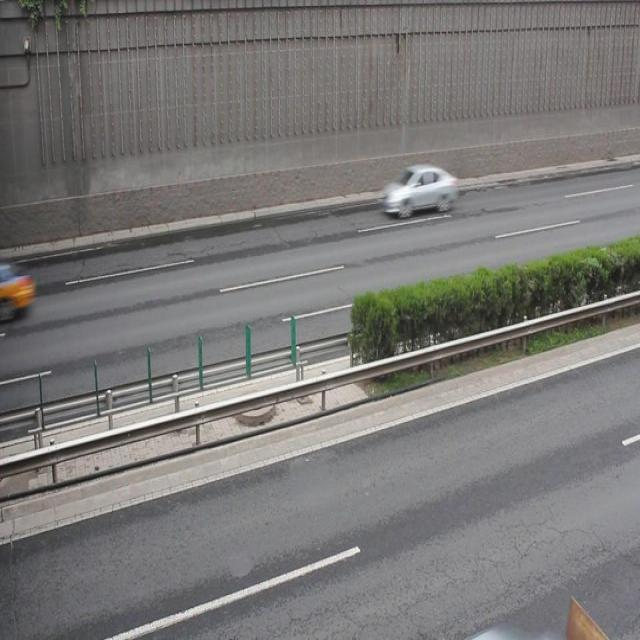car: (382, 162, 457, 214)
